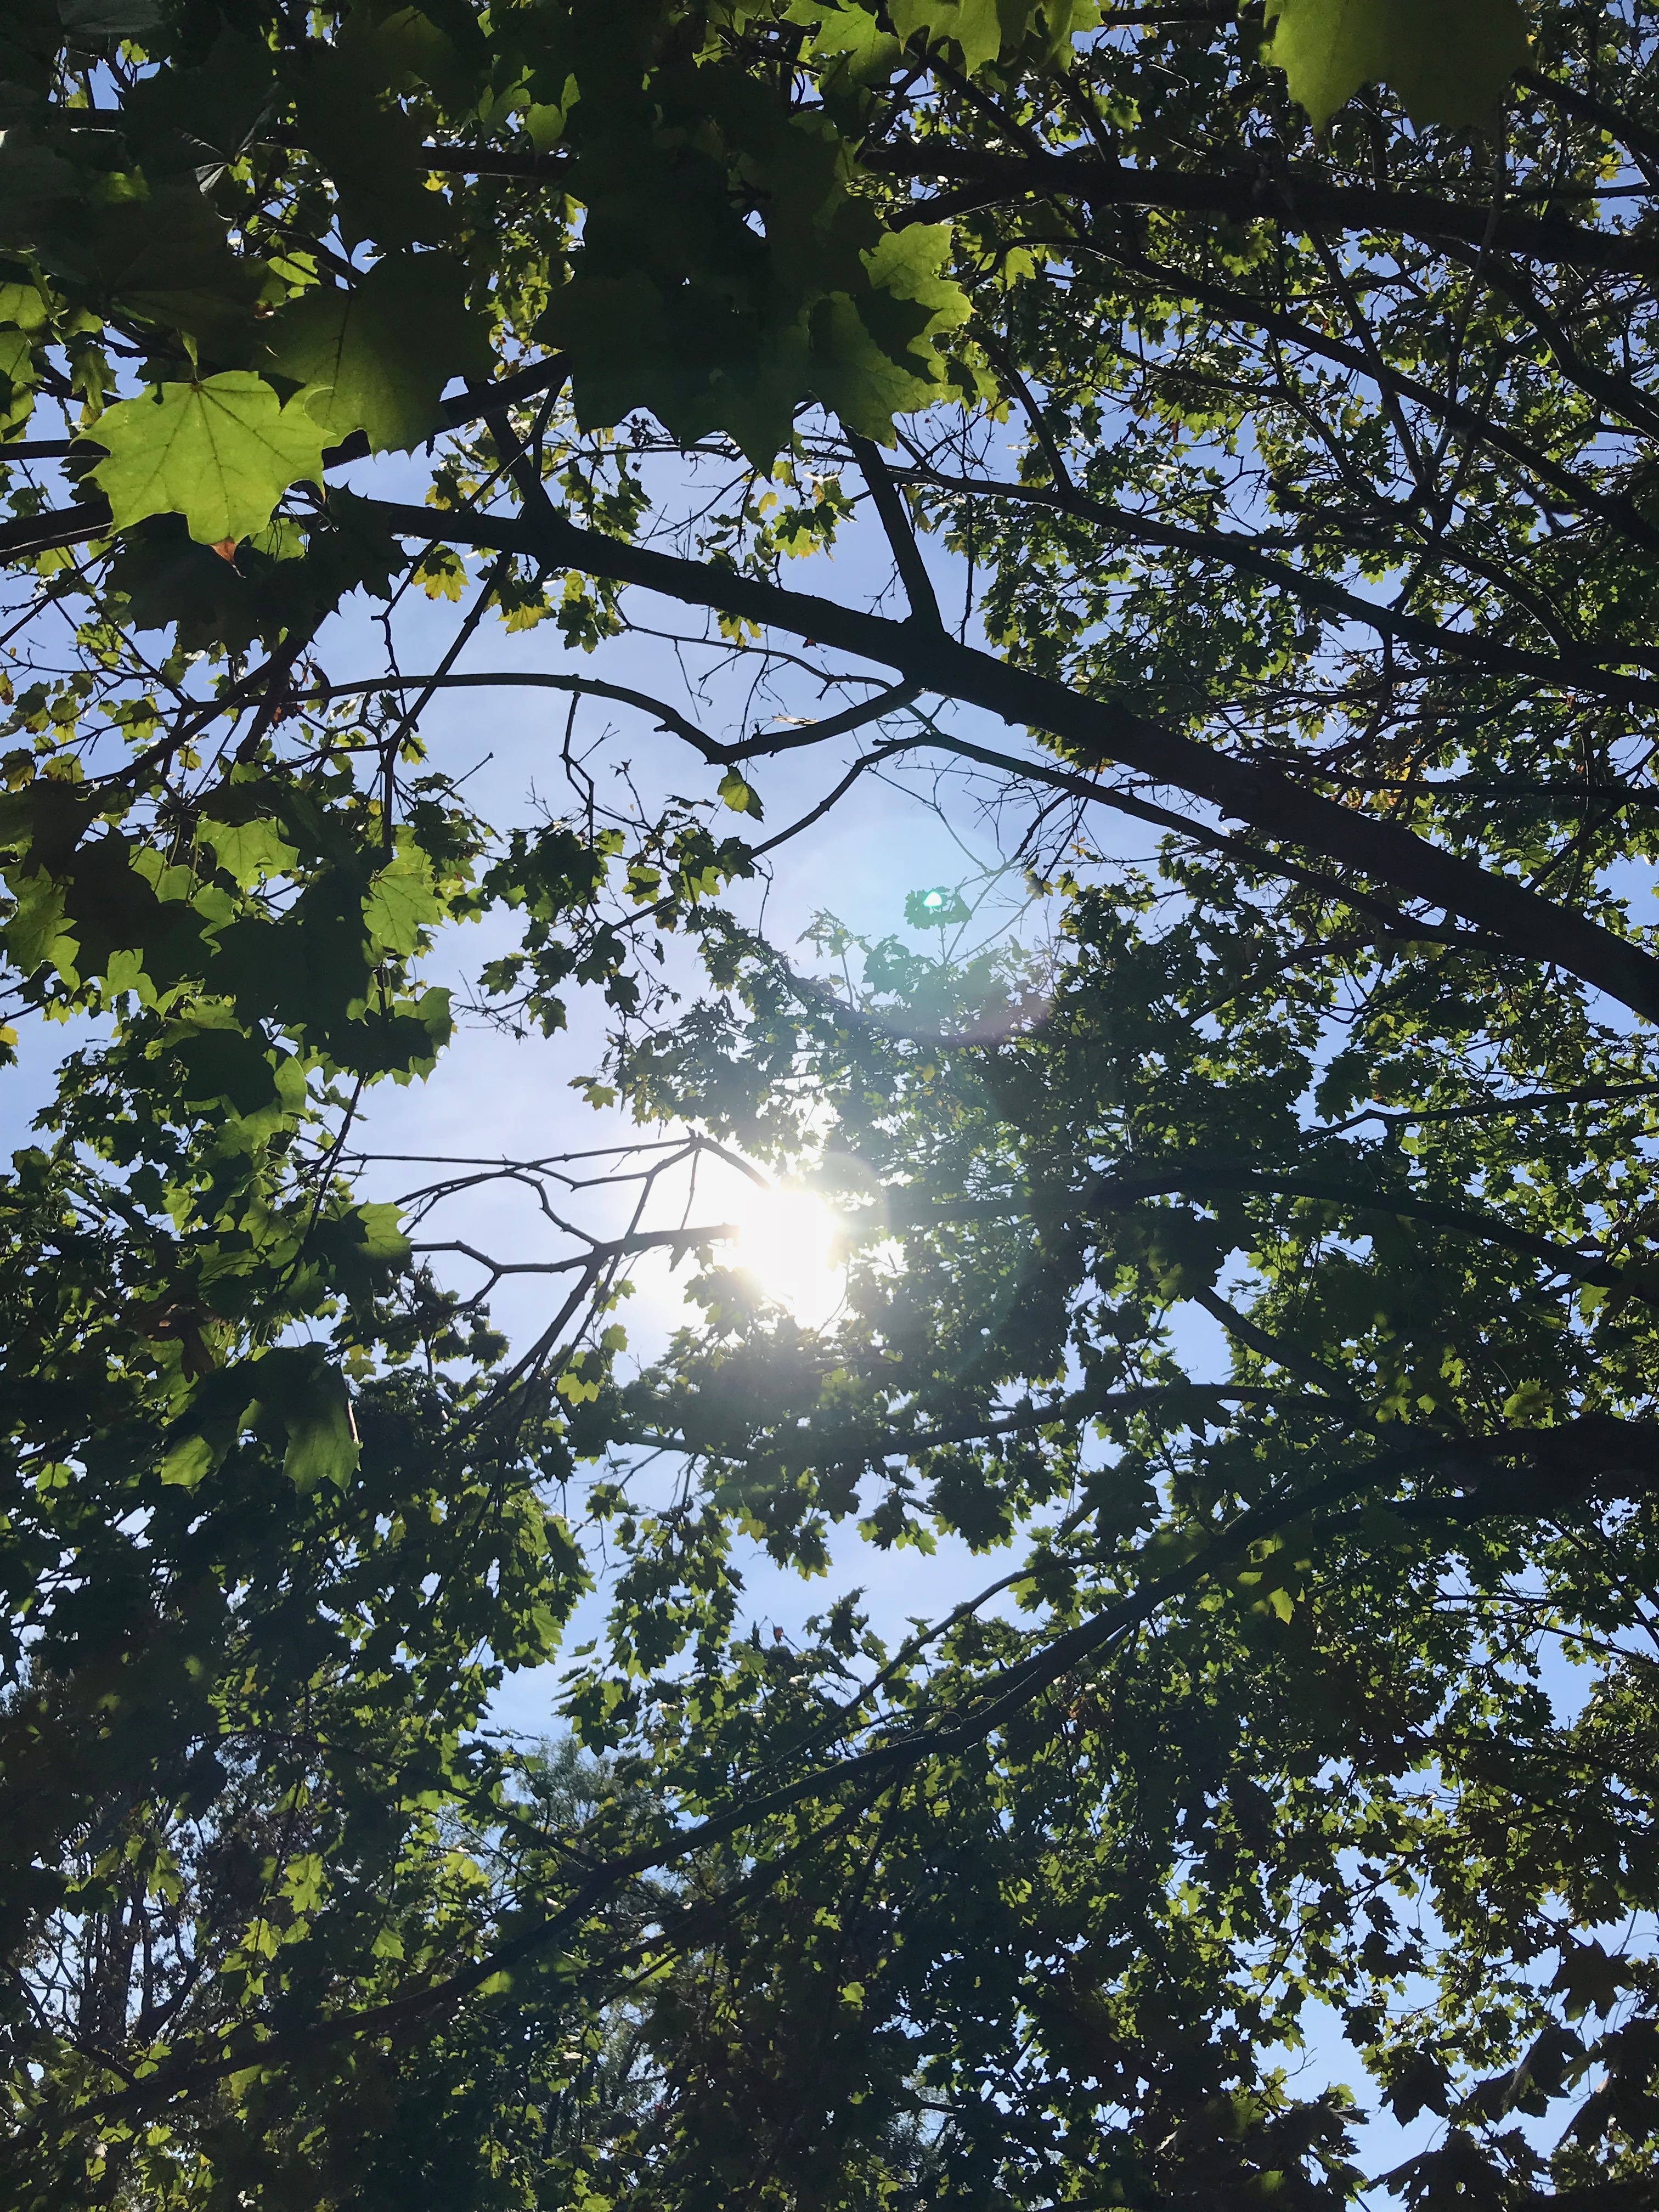flare: (922, 890, 943, 907)
